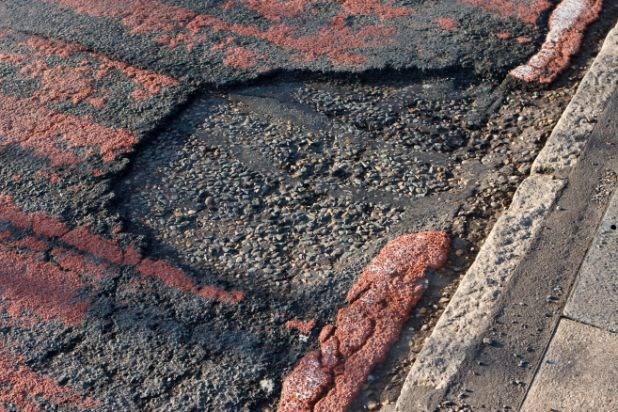pothole: (101, 58, 543, 309)
